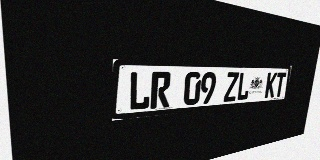0: (183, 72, 202, 106)
9: (199, 72, 217, 104)
K: (264, 72, 277, 98)
L: (128, 71, 151, 111), (236, 72, 251, 101)
R: (150, 72, 171, 109)
T: (274, 72, 286, 97)
Z: (223, 72, 239, 102)
